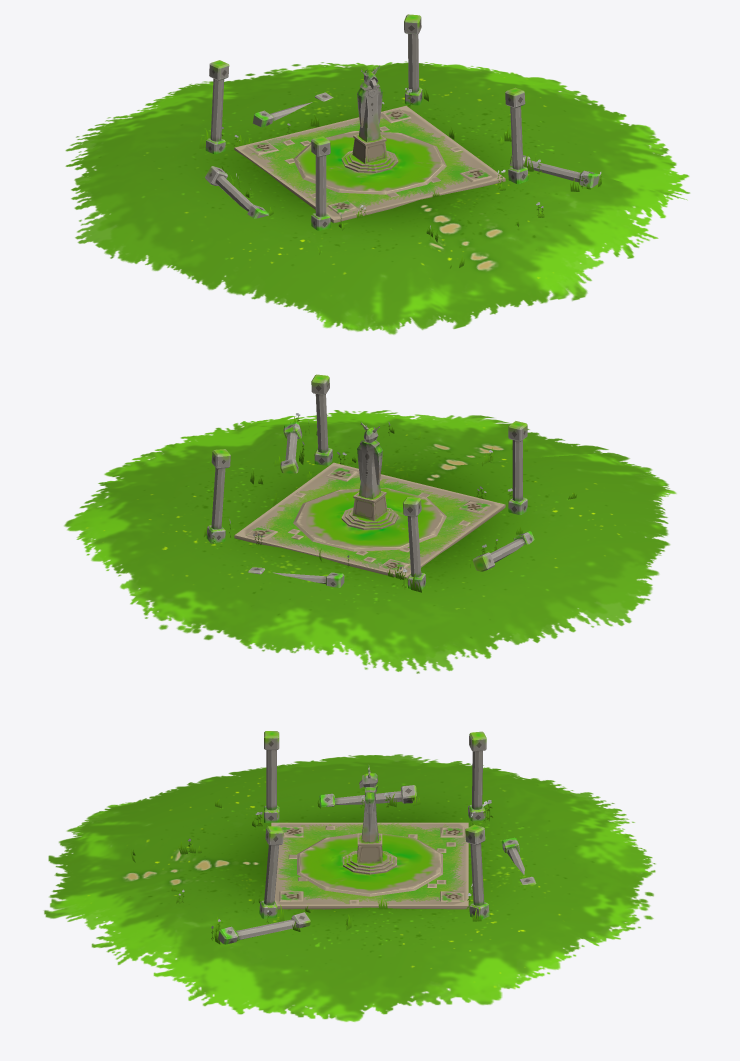
Rendered from elf_lord_temple.glb.
3 renders of one model, top to bottom at view 1: azimuth 30°, elevation 25°; view 2: azimuth 150°, elevation 25°; view 3: azimuth 270°, elevation 25°, orthographic.
Parts seen in each view (by area): view 1: Groundlush1, Cubicplatform, Circularbase, StatueDeity2, polySurface73, polySurface70, polySurface64, polySurface67; view 2: Groundlush1, Cubicplatform, Circularbase, StatueDeity2, polySurface73, polySurface64, polySurface67, polySurface70; view 3: Groundlush1, Cubicplatform, Circularbase, StatueDeity2, polySurface67, polySurface70, polySurface73, polySurface64, polySurface79, polySurface76.
Boxes of the visible parts, left/top/right/bottom form: Groundlush1: left=65, top=61, right=689, bottom=334; Cubicplatform: left=234, top=105, right=505, bottom=223; Circularbase: left=293, top=131, right=446, bottom=194; StatueDeity2: left=352, top=65, right=387, bottom=164; polySurface73: left=315, top=155, right=326, bottom=216; polySurface70: left=510, top=106, right=523, bottom=169; polySurface64: left=210, top=78, right=224, bottom=141; polySurface67: left=408, top=34, right=419, bottom=92; Groundlush1: left=64, top=410, right=676, bottom=673; Cubicplatform: left=234, top=462, right=505, bottom=579; Circularbase: left=293, top=487, right=446, bottom=551; StatueDeity2: left=352, top=422, right=387, bottom=520; polySurface73: left=512, top=440, right=522, bottom=501; polySurface64: left=407, top=516, right=421, bottom=577; polySurface67: left=211, top=467, right=225, bottom=529; polySurface70: left=315, top=394, right=328, bottom=452; Groundlush1: left=44, top=754, right=655, bottom=1021; Cubicplatform: left=271, top=822, right=468, bottom=909; Circularbase: left=297, top=833, right=442, bottom=896; StatueDeity2: left=357, top=765, right=382, bottom=863; polySurface67: left=470, top=843, right=484, bottom=905; polySurface70: left=264, top=845, right=278, bottom=905; polySurface73: left=266, top=750, right=276, bottom=810; polySurface64: left=472, top=751, right=482, bottom=809; polySurface79: left=236, top=919, right=296, bottom=940; polySurface76: left=335, top=791, right=402, bottom=804.
Size of the model in its own units: 31.11 by 6.14 by 31.11.
7 materials, 7 textured.
